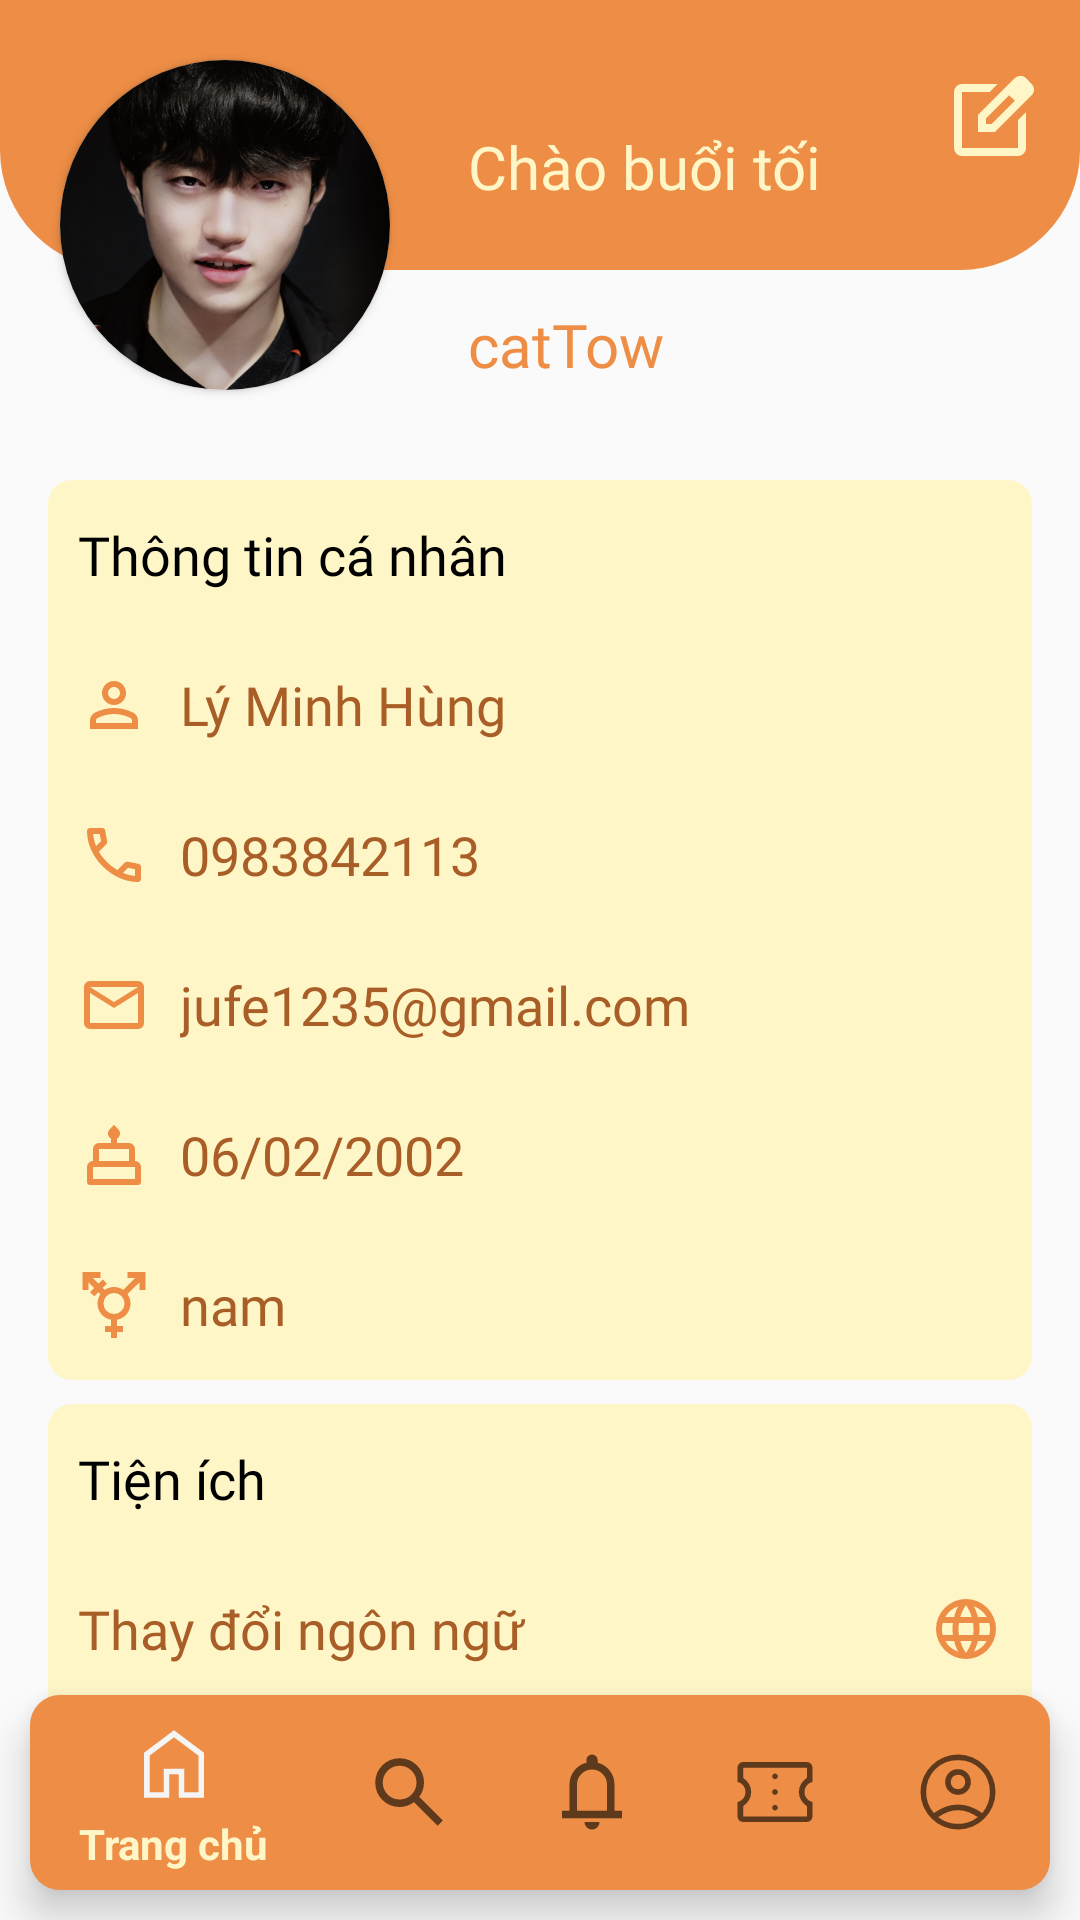

Screen size 1080 × 1920. Icon name, then its center in pixels as point (x, y):
edit square: point (994, 116)
